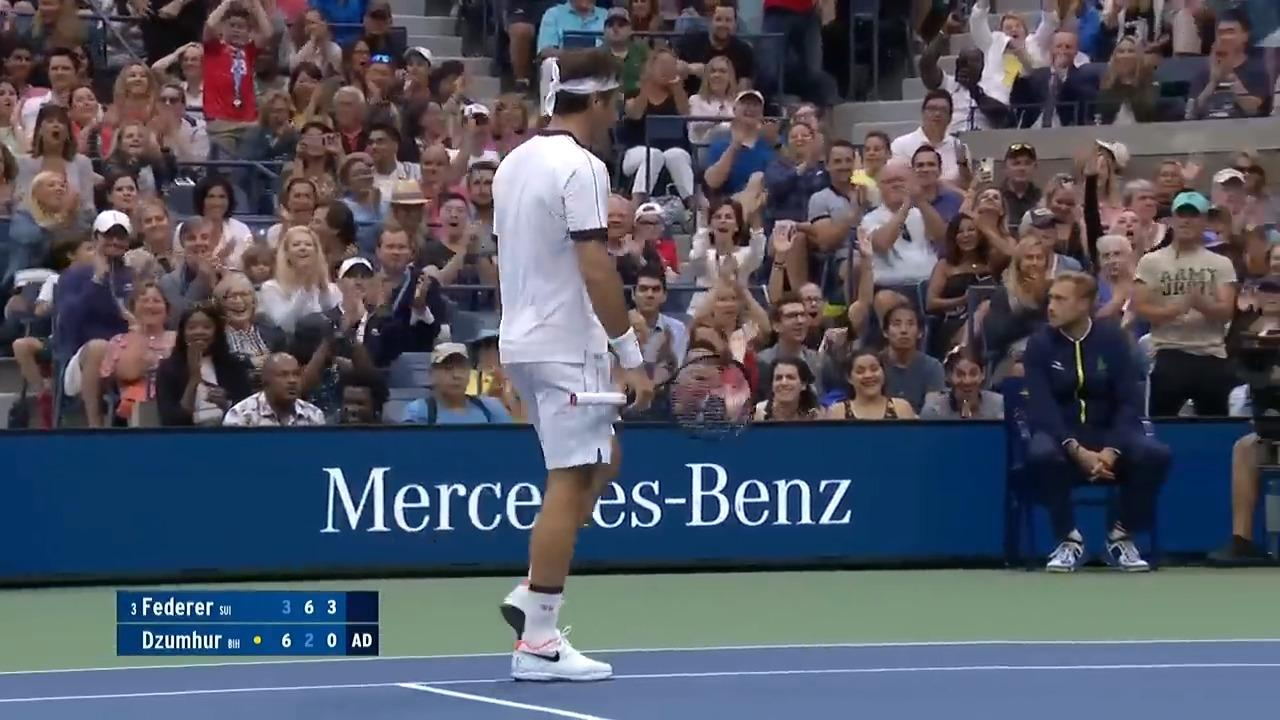tennis racket: (656, 350, 751, 437), (570, 391, 627, 406)
